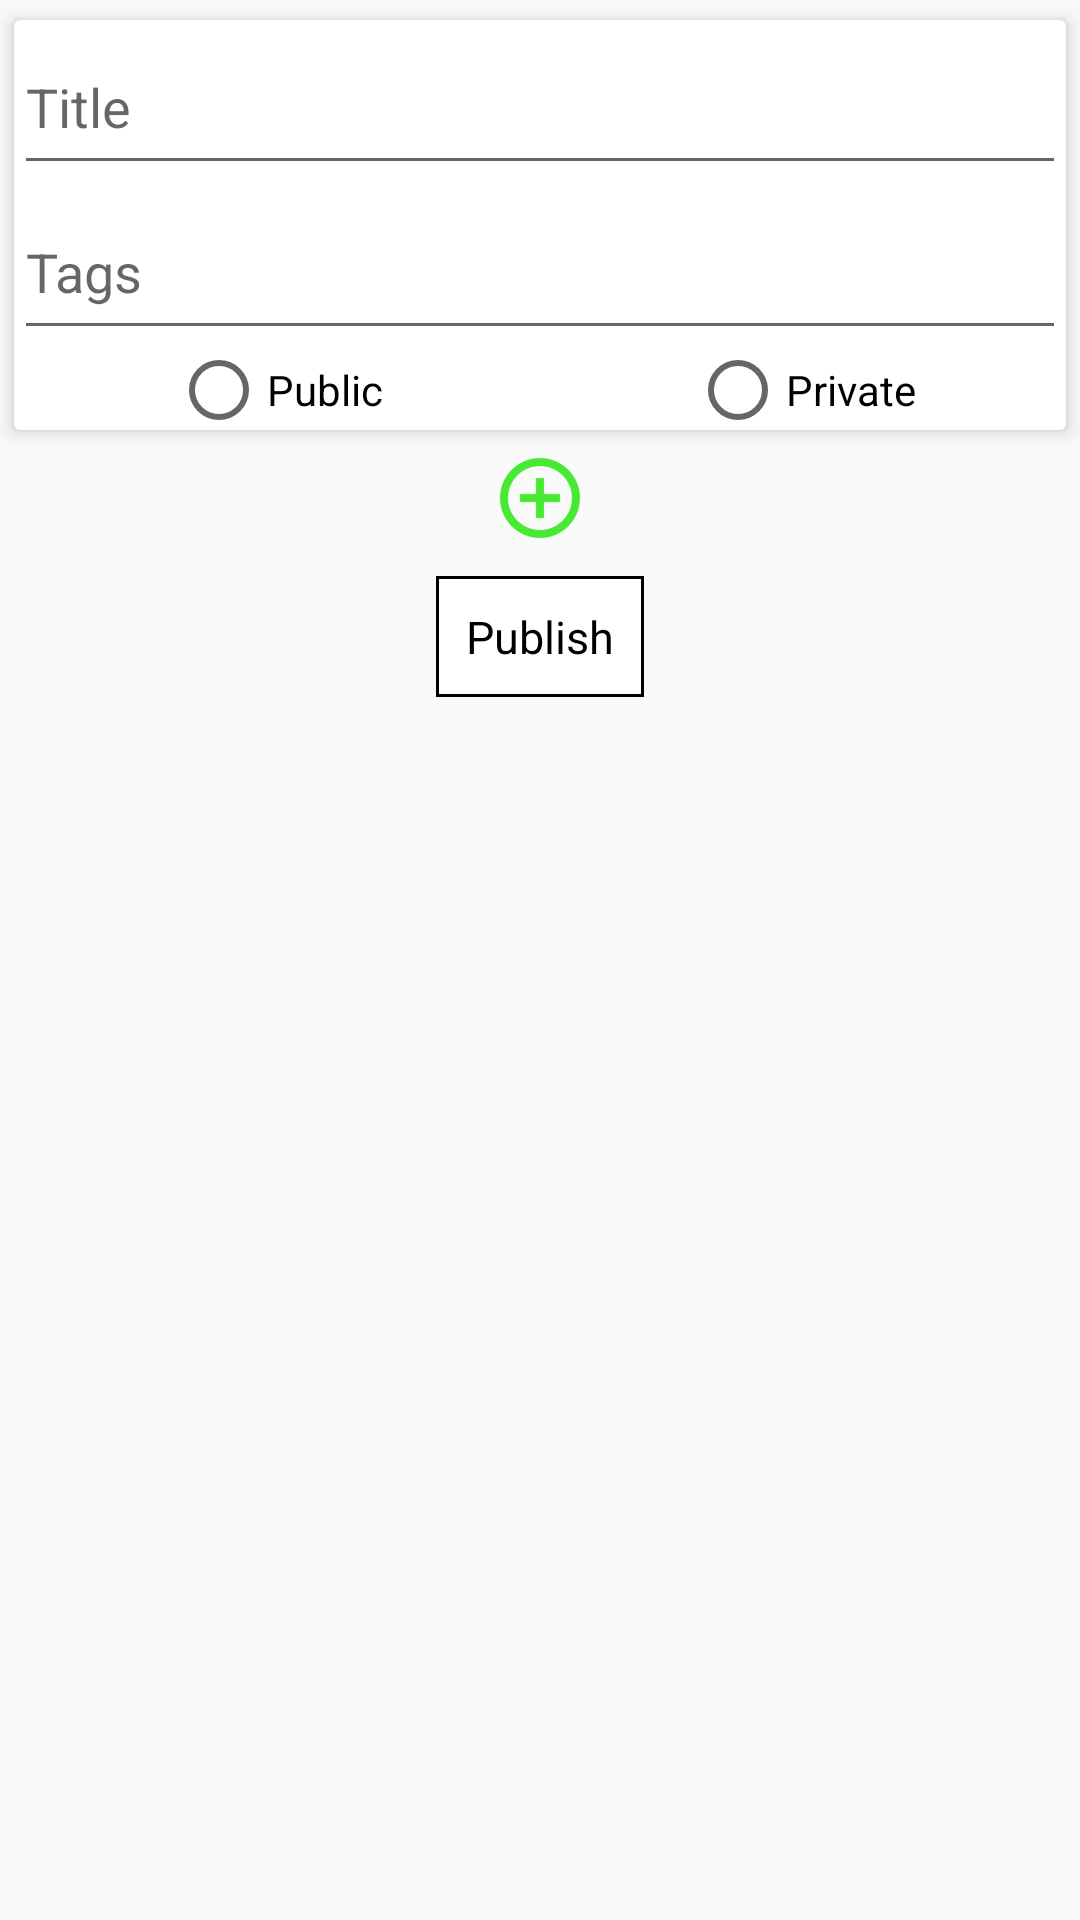

Icon bounding boxes for this 1080w x 1920h phone screenshot, format region(x1, y1, x2, y2):
add card: region(500, 458, 580, 538)
